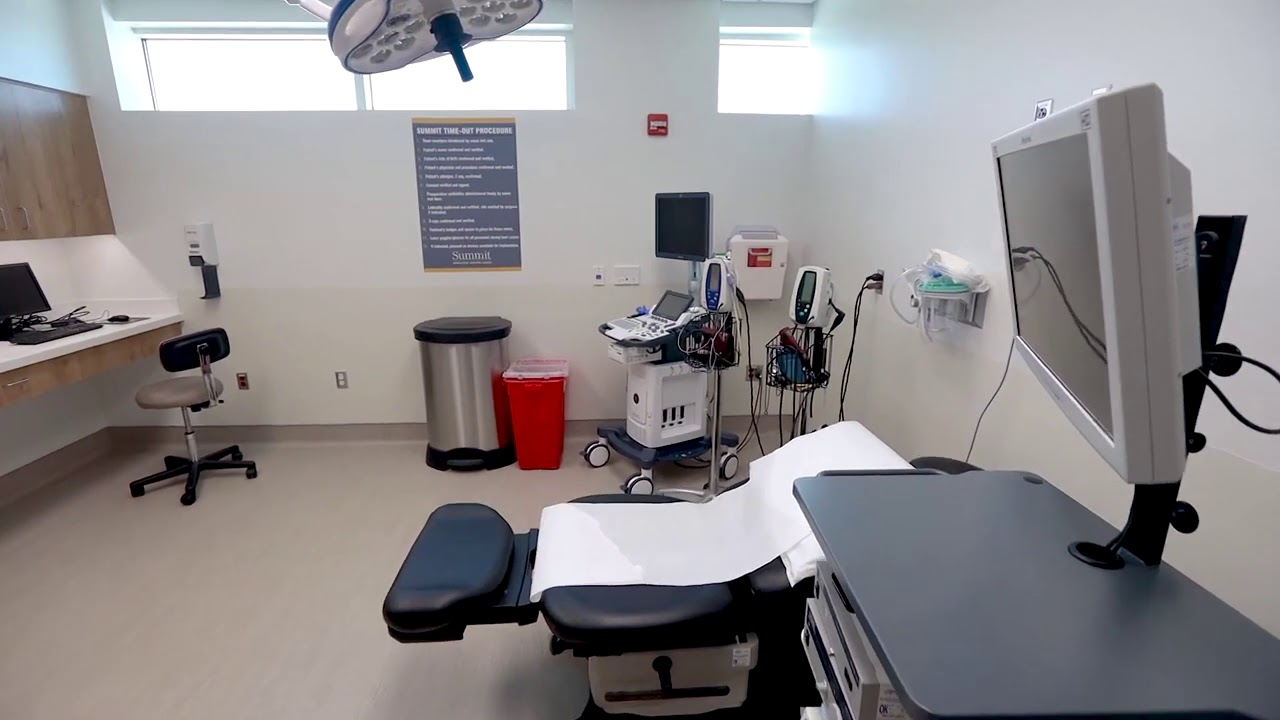bedside_monitor: (986, 135, 1173, 463), (655, 190, 716, 262)
cabinet: (1, 76, 126, 240)
chair: (128, 328, 258, 507)
computer: (1, 261, 102, 347)
countertop: (1, 312, 166, 377)
dispenser: (183, 217, 226, 305)
exam_table: (382, 426, 985, 720)
handle: (18, 189, 32, 237)
keyboard: (9, 321, 103, 345)
medical_waste_container: (726, 226, 790, 308)
mouse: (106, 314, 130, 322)
surgical_light: (288, 1, 544, 82)
table: (793, 467, 1280, 720)
waste_bin: (412, 317, 517, 473), (502, 358, 571, 471)
